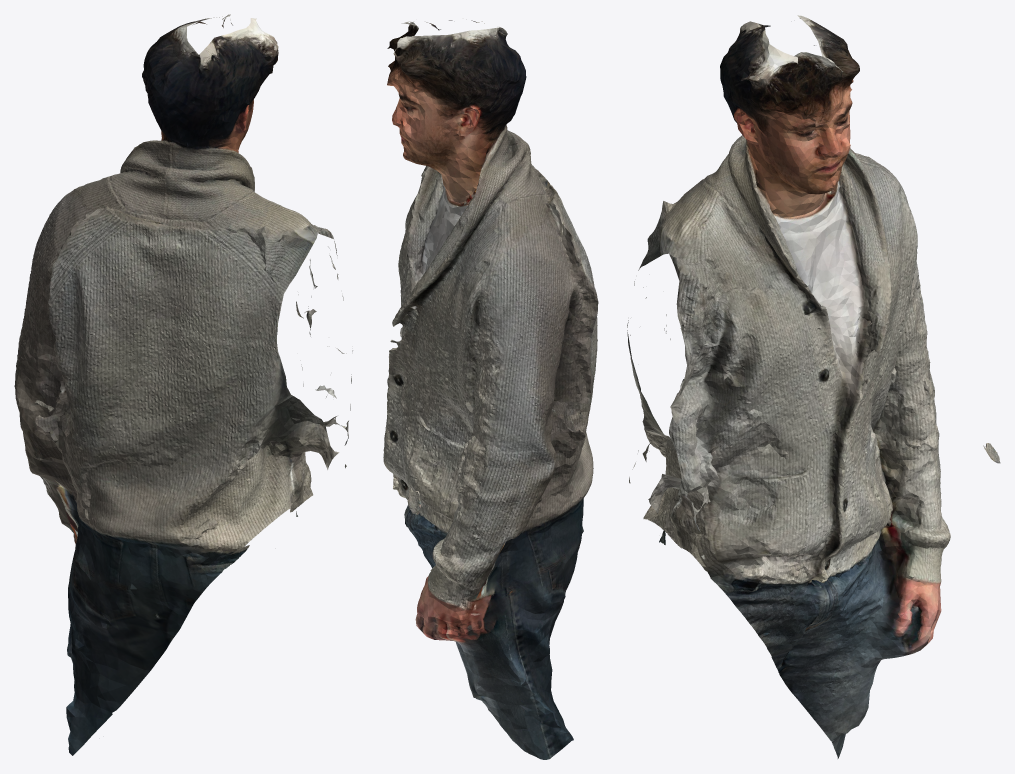
Rendered from scan-01.glb.
3 renders of one model, left to right at view 1: azimuth 30°, elevation 25°; view 2: azimuth 150°, elevation 25°; view 3: azimuth 270°, elevation 25°, orthographic. The views are drawn at different scales.
Parts seen in each view (by area): view 1: Mesh_0; view 2: Mesh_0; view 3: Mesh_0.
Boxes of the visible parts, box(x1,y1,x2,y2) form: Mesh_0: box(14, 14, 352, 755); Mesh_0: box(383, 20, 598, 759); Mesh_0: box(627, 15, 1000, 758).
Bounding box in the file's own units: 1.2 × 3.25 × 1.39.
1 material, 1 textured.
